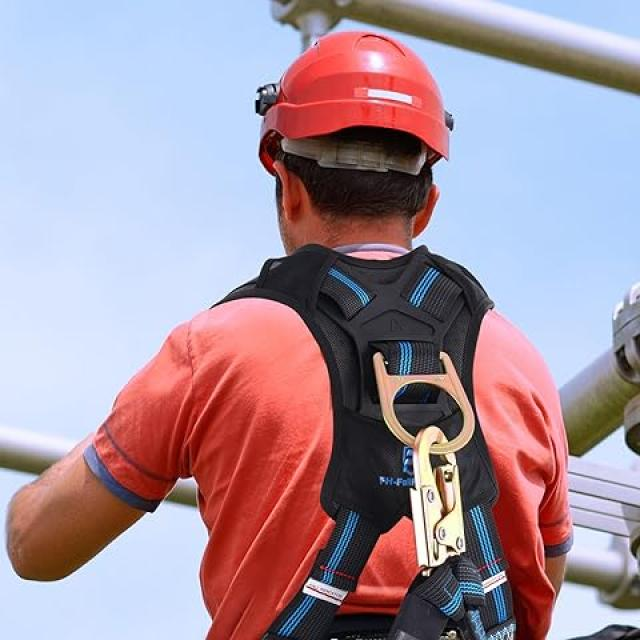harness: (376, 377, 504, 640)
